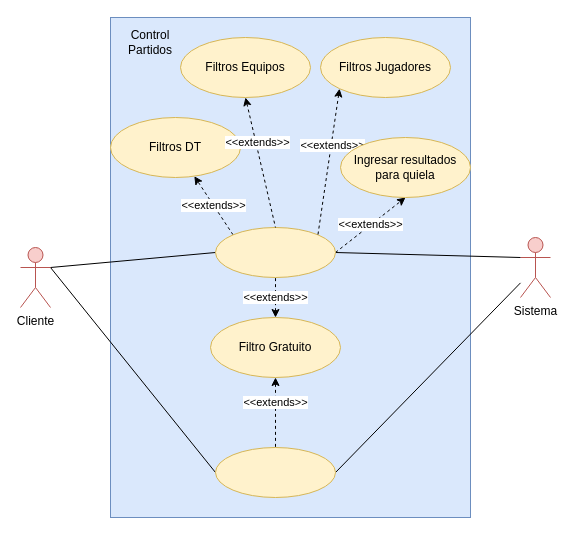
Image size: 574x535. Some labels were removed from this diagram. Each missing label, with the box of its shape:
Vista partidos con membresía: (214, 226, 336, 278)
Vista partidos sin membresía: (214, 446, 336, 498)
